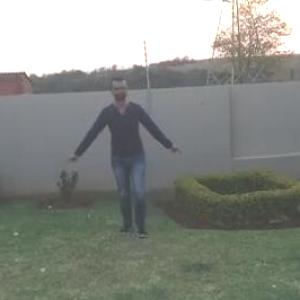land: (68, 66, 187, 241)
